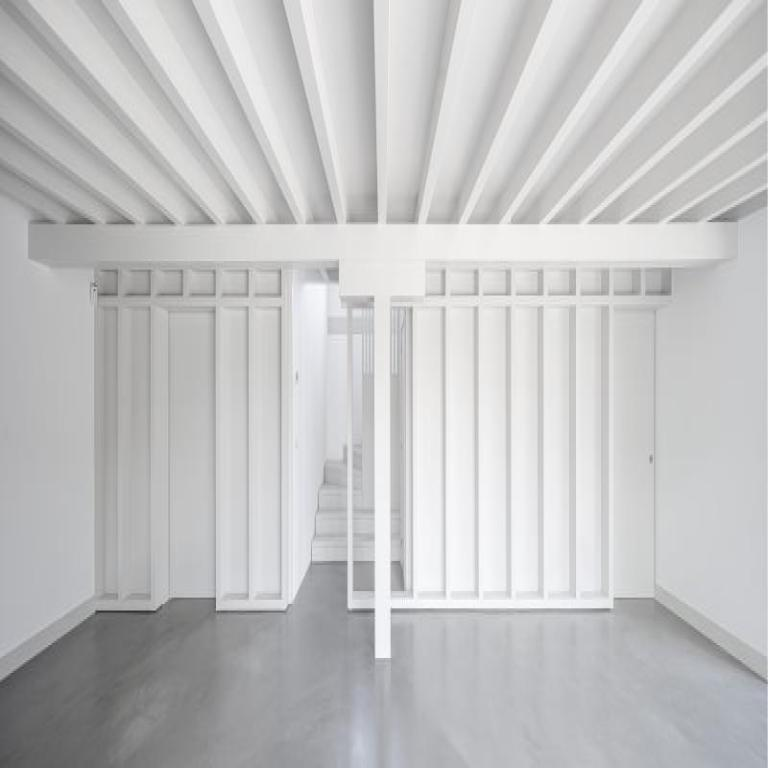white-walls: (665, 263, 759, 633), (17, 277, 81, 626)
